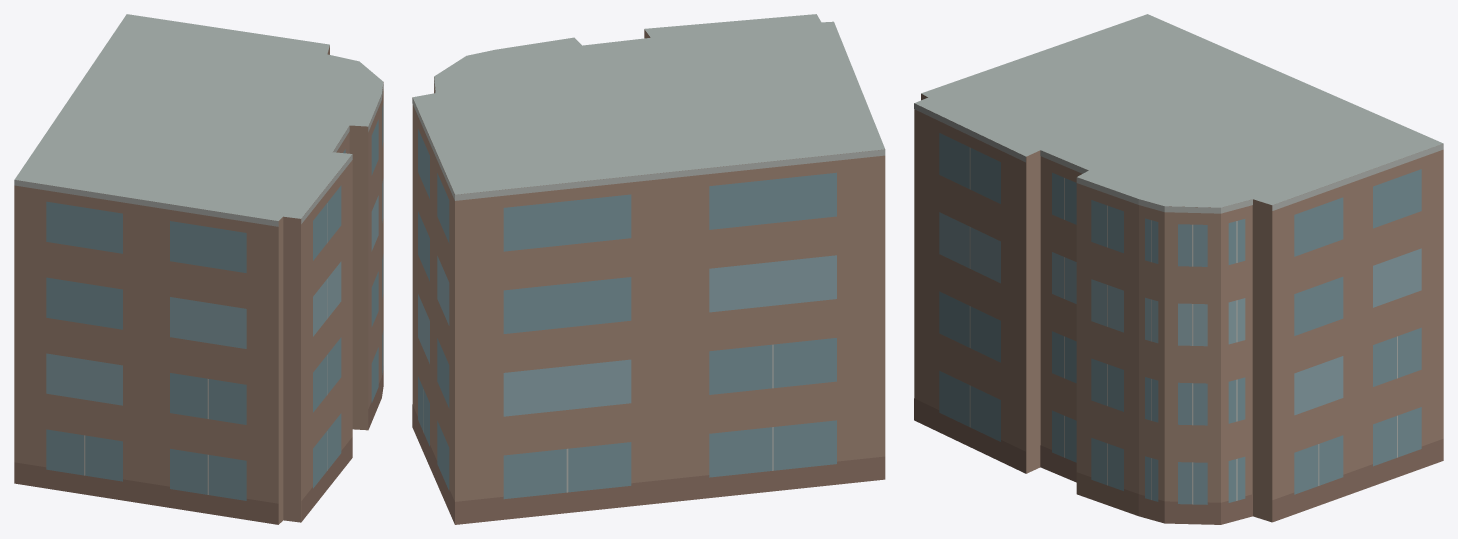
Rendered from survey-upis-32938576.glb.
3 views of the same model, side by side, from view 1: azimuth 30°, elevation 25°; view 2: azimuth 150°, elevation 25°; view 3: azimuth 270°, elevation 25° (orthographic). The views are drawn at different scales.
Visible parts, largest first — view 1: survey-upis-32938576.tmp; view 2: survey-upis-32938576.tmp; view 3: survey-upis-32938576.tmp.
Boxes of the visible parts, x1,y1,x2,y2 form: survey-upis-32938576.tmp: (14,14,383,524); survey-upis-32938576.tmp: (412,14,885,524); survey-upis-32938576.tmp: (914,14,1443,524).
Bounding box in the file's own units: 17.04 × 13 × 19.68.
